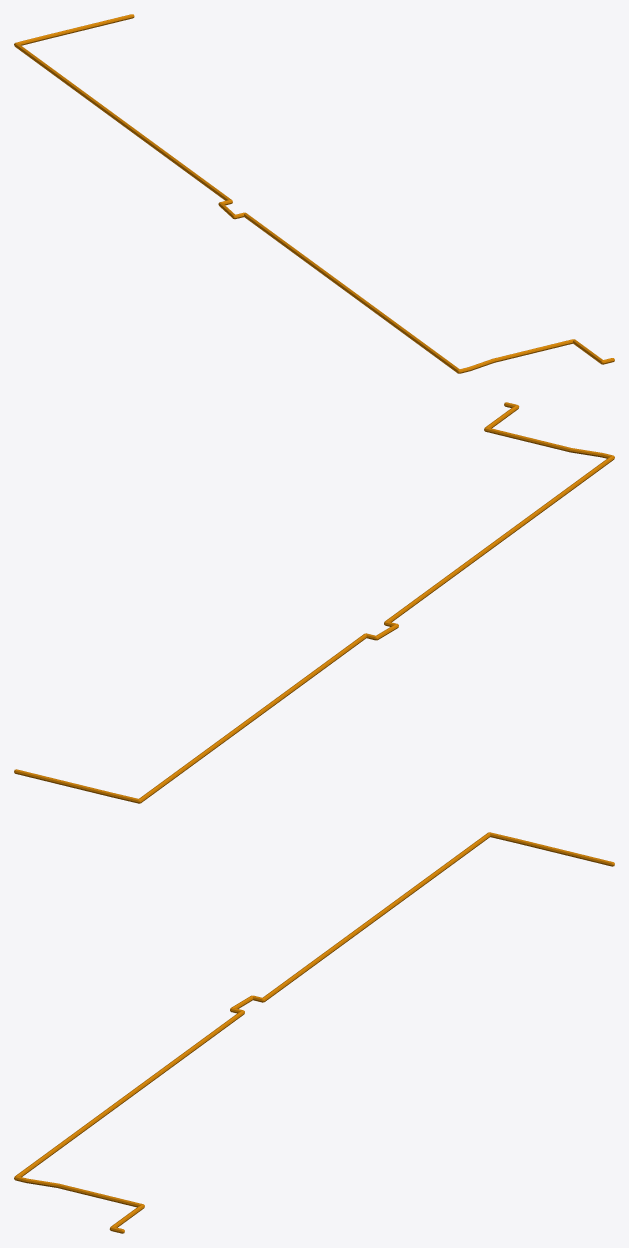
3 views of the same model, one above another, from view 1: azimuth 30°, elevation 25°; view 2: azimuth 150°, elevation 25°; view 3: azimuth 330°, elevation 25° (orthographic). The views are drawn at different scales.
Bounding box in the file's own units: 703 × 20 × 4094.
